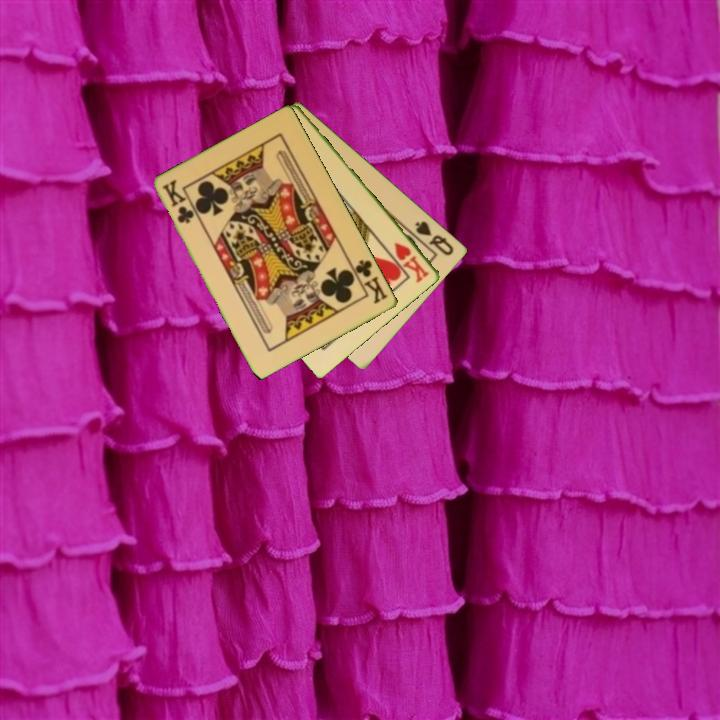Kc: (348, 256, 391, 307), (159, 176, 197, 227)
Kh: (391, 239, 432, 286)
Qs: (412, 217, 457, 259)
